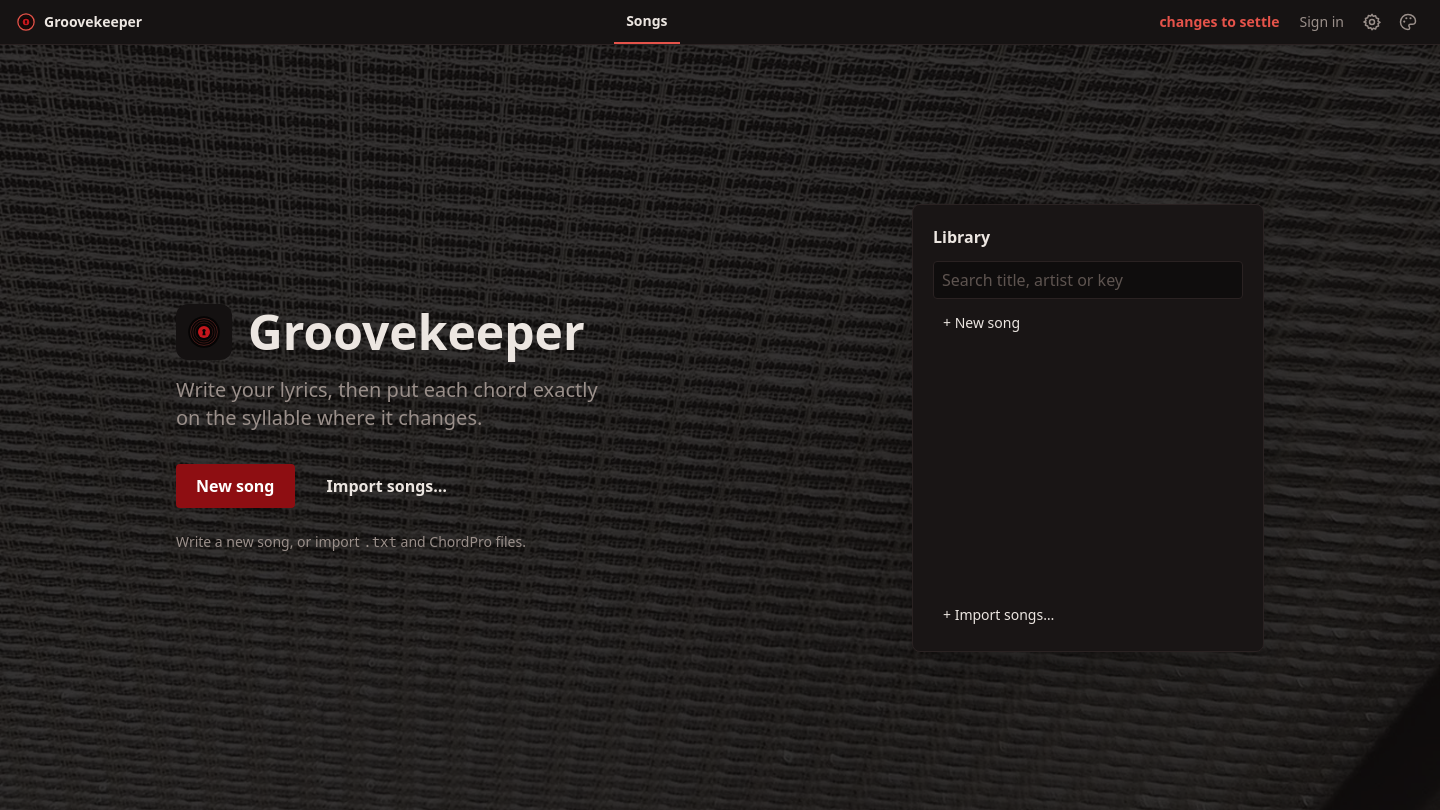
Test case: themes › switches the theme from the top bar and remembers it
Click the button named "Theme: Amp".
click(1408, 22)  # box [1392, 6, 1424, 38]
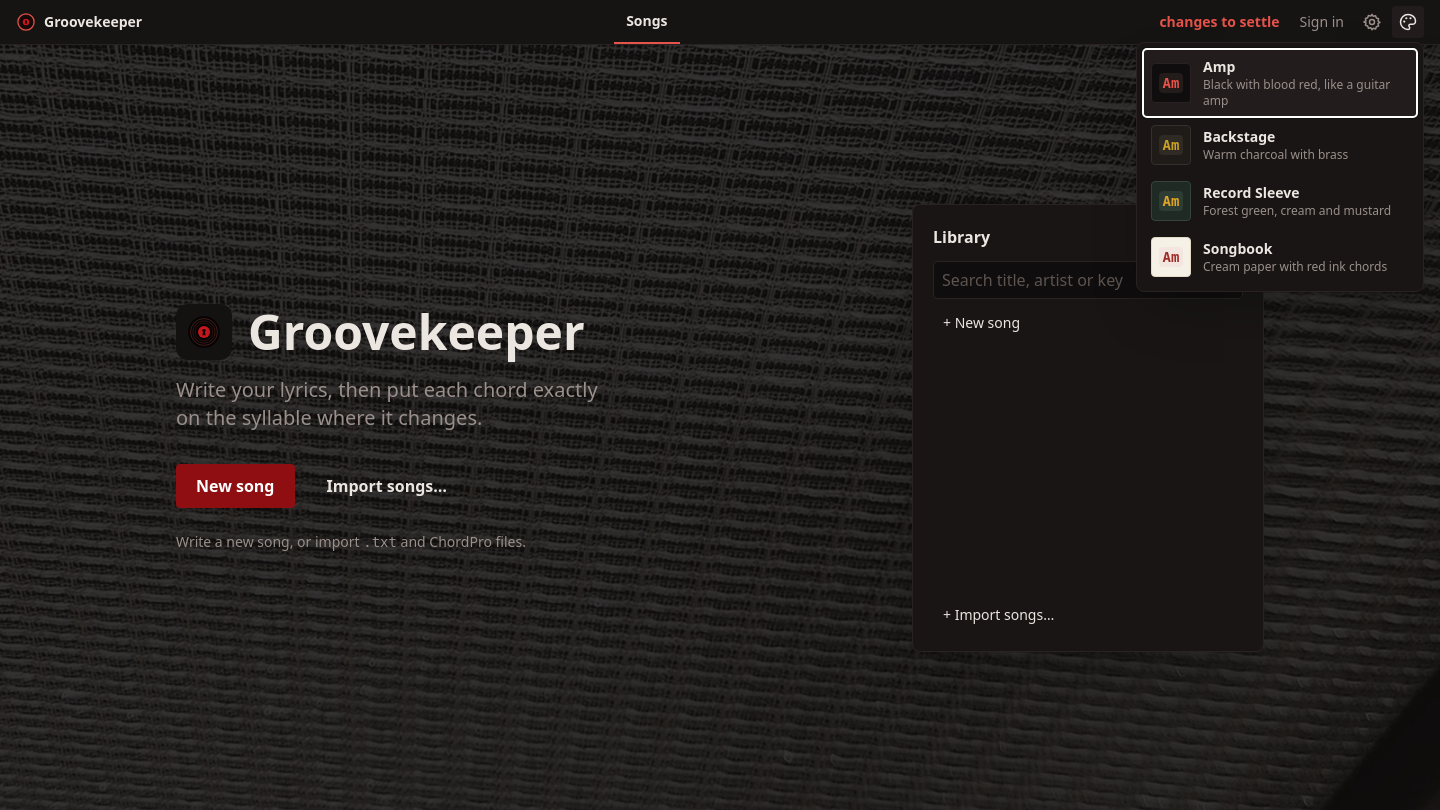
Click the button "Am Songbook Cream paper with red ink chords".
click(1280, 257)  # box [1143, 229, 1417, 285]
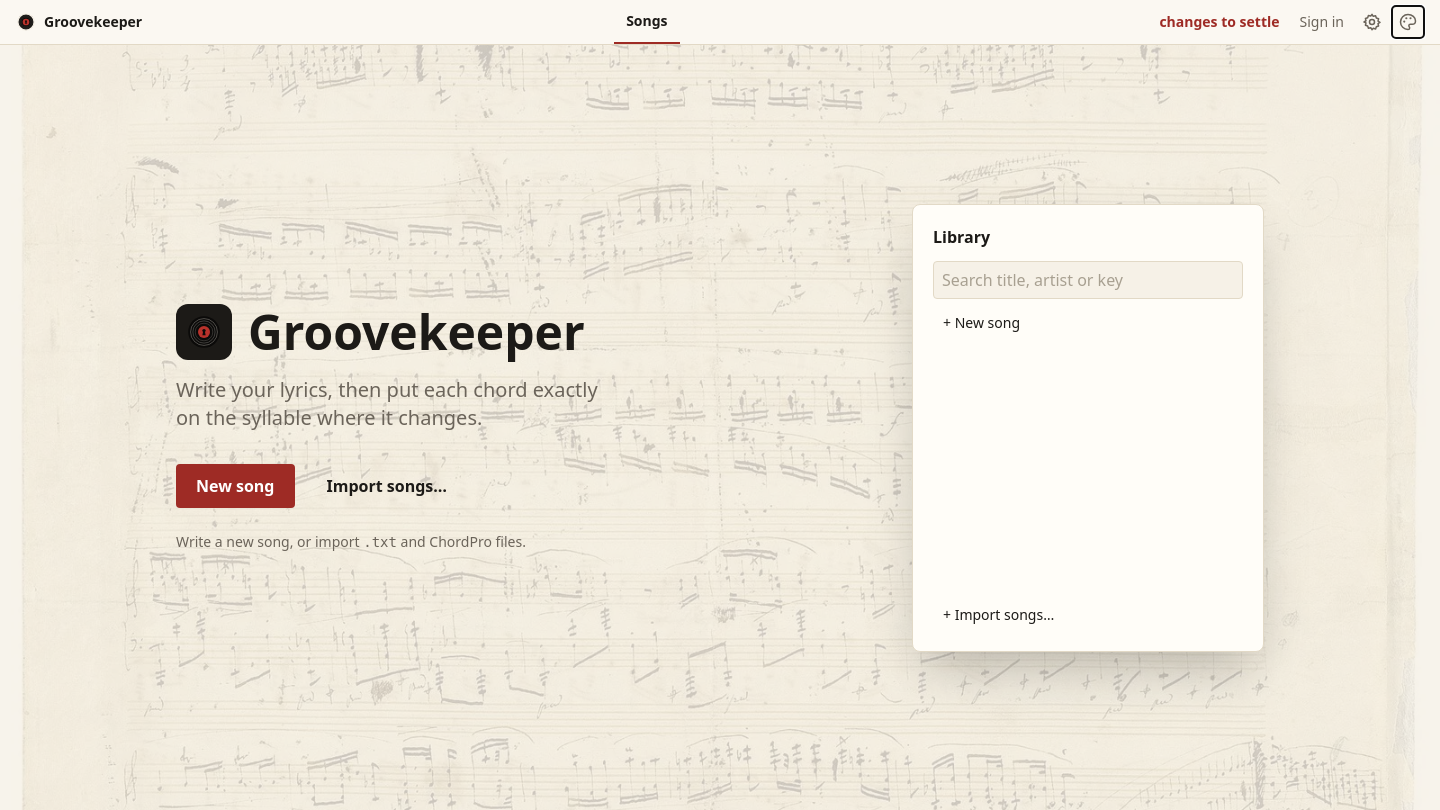
Expected: the button named "Theme: Songbook" is shown, [1392, 6, 1424, 38]
Expected: the element "Theme" is gone
